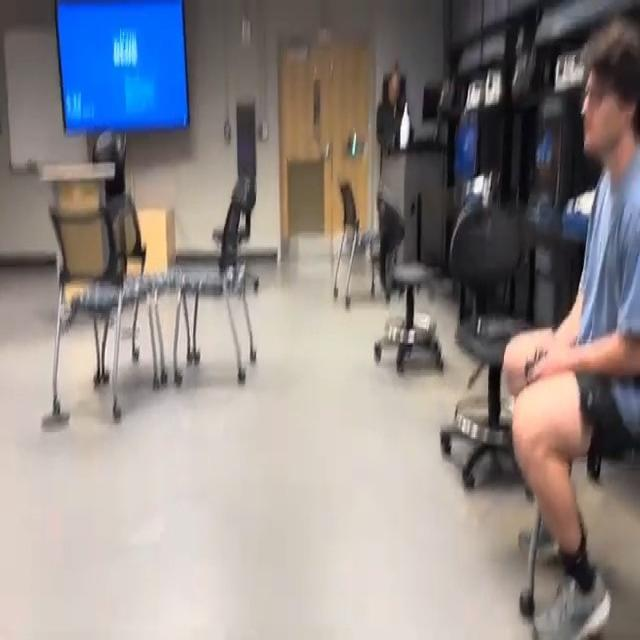drone: (337, 124, 373, 161)
